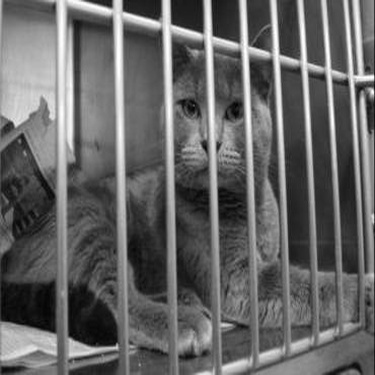cat: (3, 25, 370, 359)
